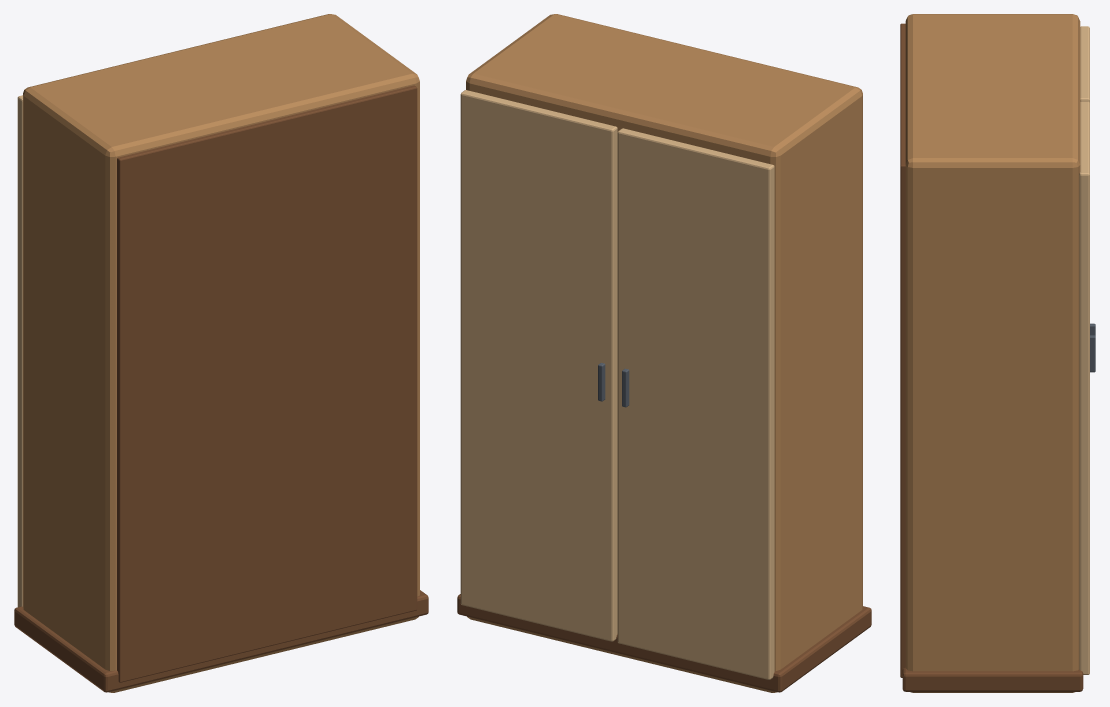
Rendered from wardrobe.glb.
The picture shows the model from 3 angles, left to right: view 1: azimuth 30°, elevation 25°; view 2: azimuth 150°, elevation 25°; view 3: azimuth 270°, elevation 25°; orthographic projection. The views are drawn at different scales.
Visible parts, largest first — view 1: Wardrobe_Back, Wardrobe_Carcass, Wardrobe_Base, Wardrobe_Door; view 2: Wardrobe_Door.001, Wardrobe_Door, Wardrobe_Carcass, Wardrobe_Base; view 3: Wardrobe_Carcass, Wardrobe_Door.001, Wardrobe_Back, Wardrobe_Base, Wardrobe_Door.
Part boxes in pixels (box(x1,y1,x2,y2)): Wardrobe_Back: box(117, 85, 417, 682); Wardrobe_Carcass: box(23, 14, 419, 692); Wardrobe_Base: box(14, 590, 428, 692); Wardrobe_Door: box(17, 95, 22, 607); Wardrobe_Door.001: box(460, 90, 617, 641); Wardrobe_Door: box(617, 128, 774, 679); Wardrobe_Carcass: box(466, 14, 862, 692); Wardrobe_Base: box(457, 594, 871, 692); Wardrobe_Carcass: box(905, 14, 1080, 692); Wardrobe_Door.001: box(1079, 101, 1089, 674); Wardrobe_Back: box(900, 23, 905, 677); Wardrobe_Base: box(902, 667, 1083, 691); Wardrobe_Door: box(1080, 26, 1089, 102).
Size of the model in its own units: 1.22 by 1.96 by 0.649.
